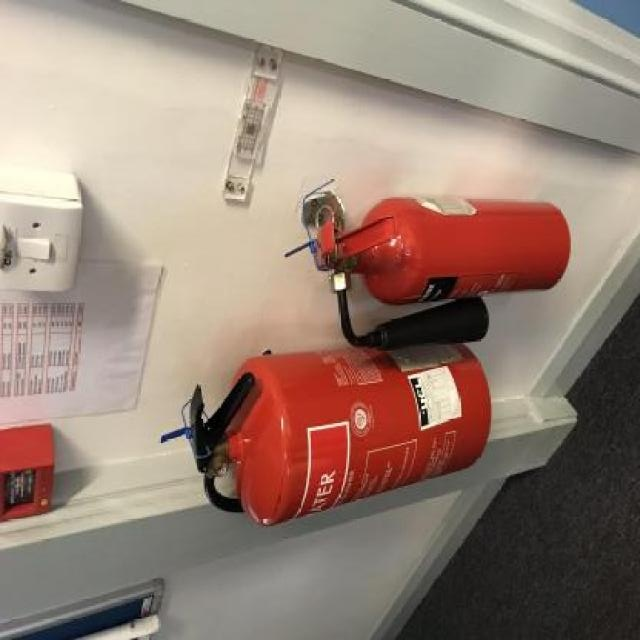fire extinguisher: (160, 343, 492, 529), (315, 197, 571, 351)
